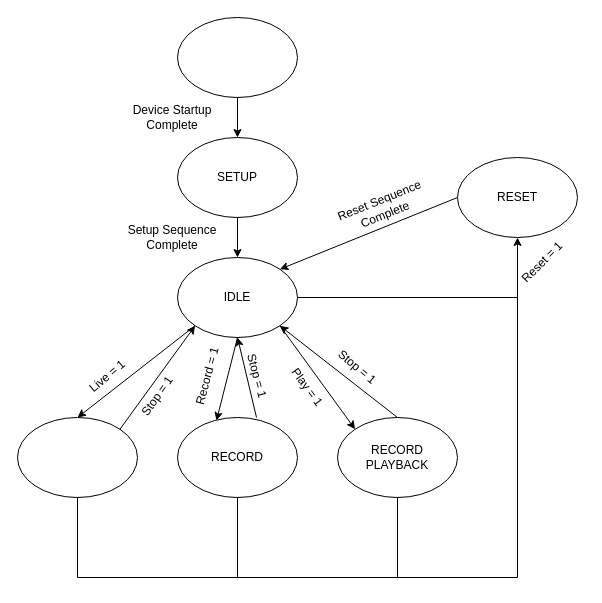
Image size: 602x603. Some labels were removed from this diagram. Each missing label, with the centre of its shape:
"LIVE SEQUENCE" goes at (77,457).
"POWER ON" goes at (237,57).
